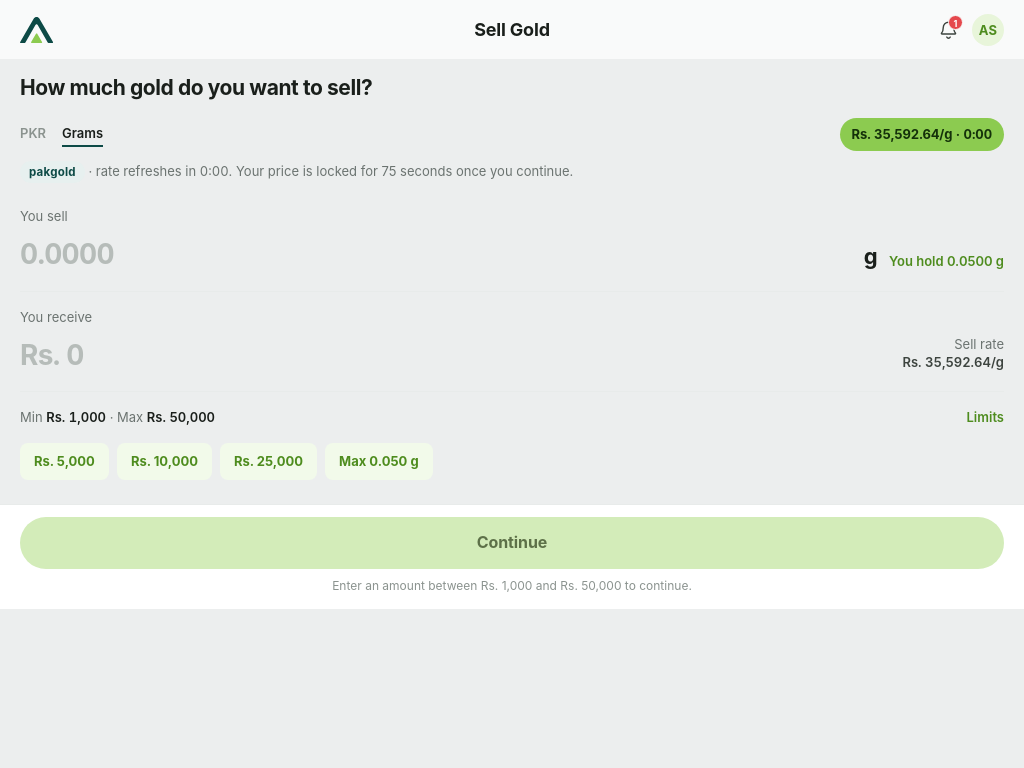
Test case: who decides an order cannot go through › answers a short gold holding immediately, without asking the server
The width and height of the screenshot is (1024, 768).
Type "0.5" into the field named "You sell in grams" at (439, 254), box x1=20 y1=234 x2=858 y2=275
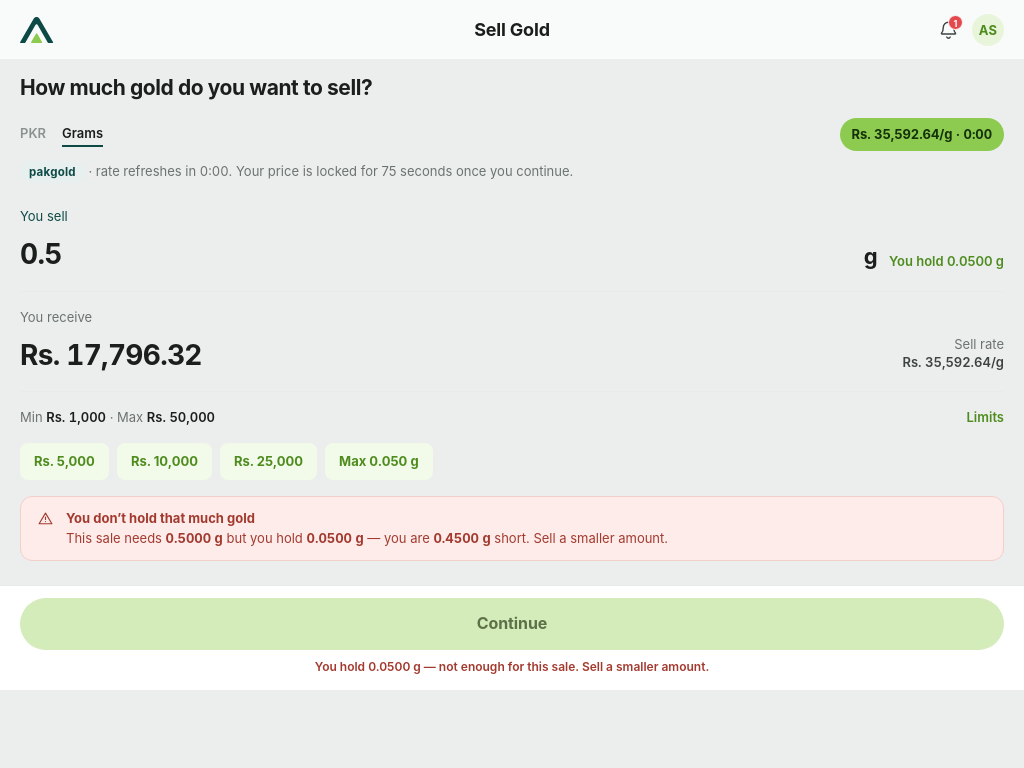
Expected: the text "You don’t hold that much gold" is shown, x1=66 y1=510 x2=255 y2=526
